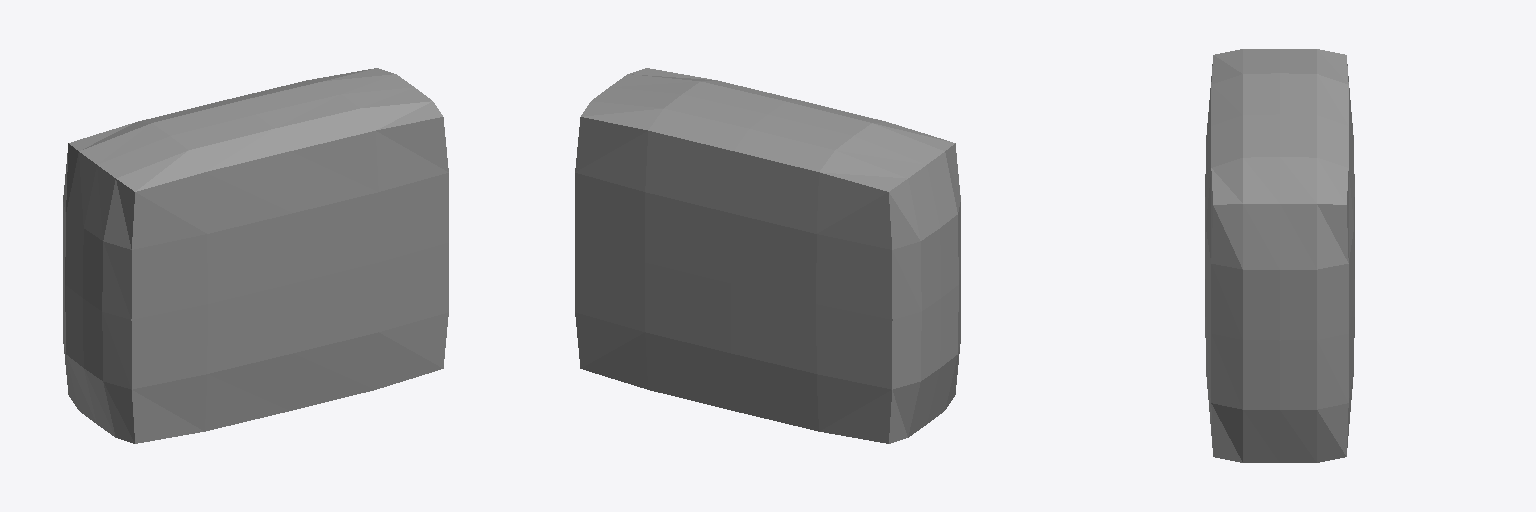
Rendered from package.obj.
3 views of the same model, side by side, from view 1: azimuth 30°, elevation 25°; view 2: azimuth 150°, elevation 25°; view 3: azimuth 270°, elevation 25° (orthographic).
Parts seen in each view (by area): view 1: Cube; view 2: Cube; view 3: Cube.
Part boxes in pixels (x1,y1,x2,y2): Cube: (63, 68, 448, 443); Cube: (575, 68, 960, 443); Cube: (1205, 49, 1354, 462).
Size of the model in its own units: 0.2999 by 0.2343 by 0.1124.